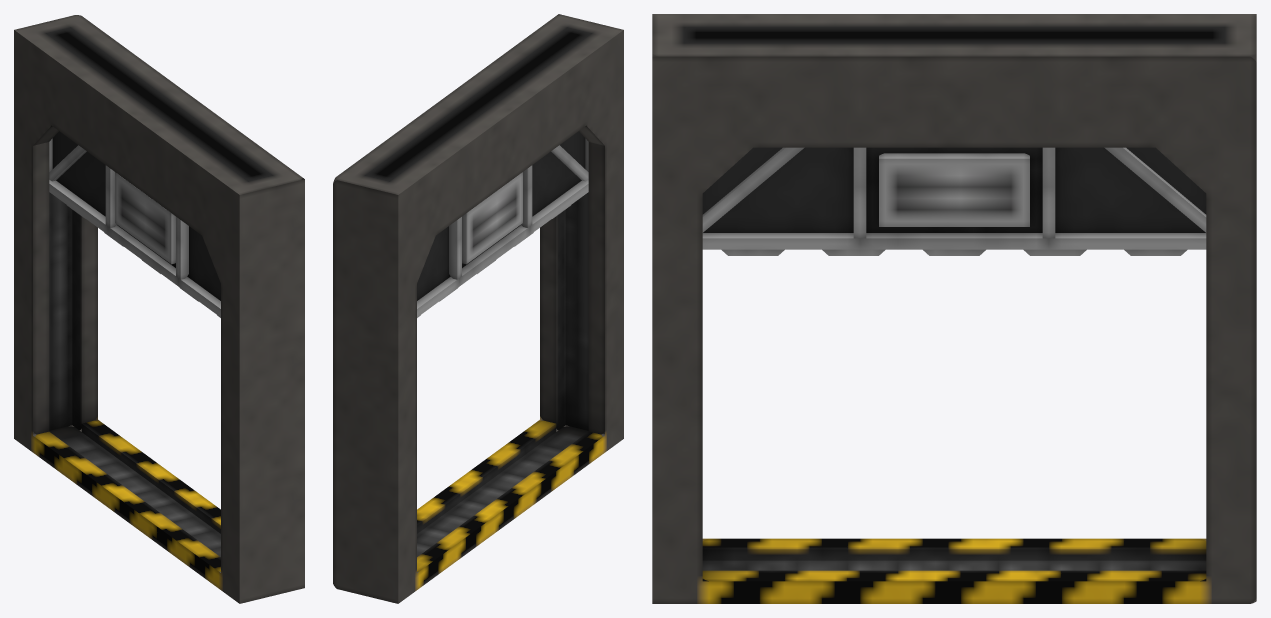
Rendered from qe_containment_125.obj.
The picture shows the model from 3 angles, left to right: view 1: azimuth 30°, elevation 25°; view 2: azimuth 150°, elevation 25°; view 3: azimuth 270°, elevation 25°; orthographic projection. The views are drawn at different scales.
Parts seen in each view (by area): view 1: Frame, Door; view 2: Frame, Door; view 3: Frame, Door.
Part boxes in pixels (<box>): Frame: <box>14,15,304,603</box>; Door: <box>49,131,220,317</box>; Frame: <box>333,14,623,603</box>; Door: <box>417,131,588,317</box>; Frame: <box>652,14,1256,603</box>; Door: <box>702,147,1206,255</box>.
Bounding box in the file's own units: 0.5 × 3 × 3.
